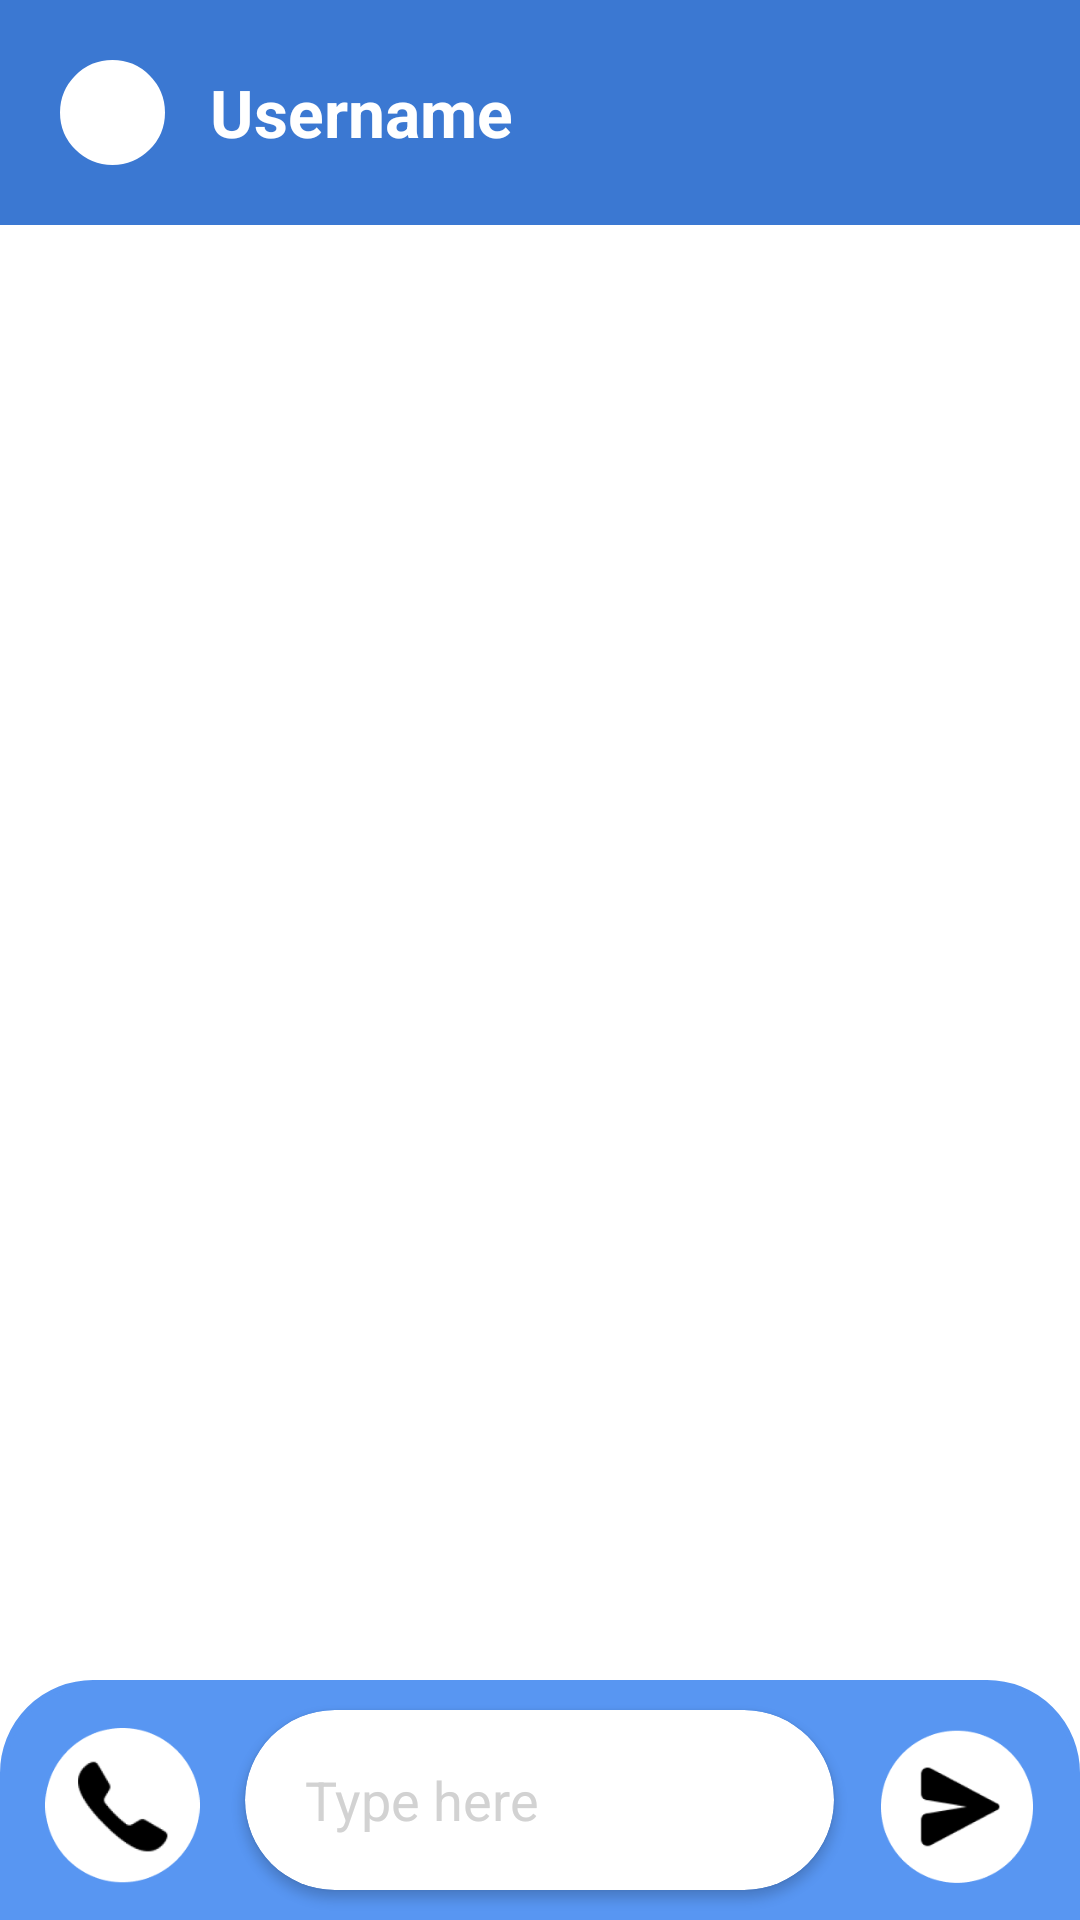

Locate icon controls on the screen. Image size 1080px x 1920px, boxes as bbox=(x1, y1, x2, y2).
call: bbox=(45, 1728, 200, 1883)
send: bbox=(881, 1730, 1033, 1883)
